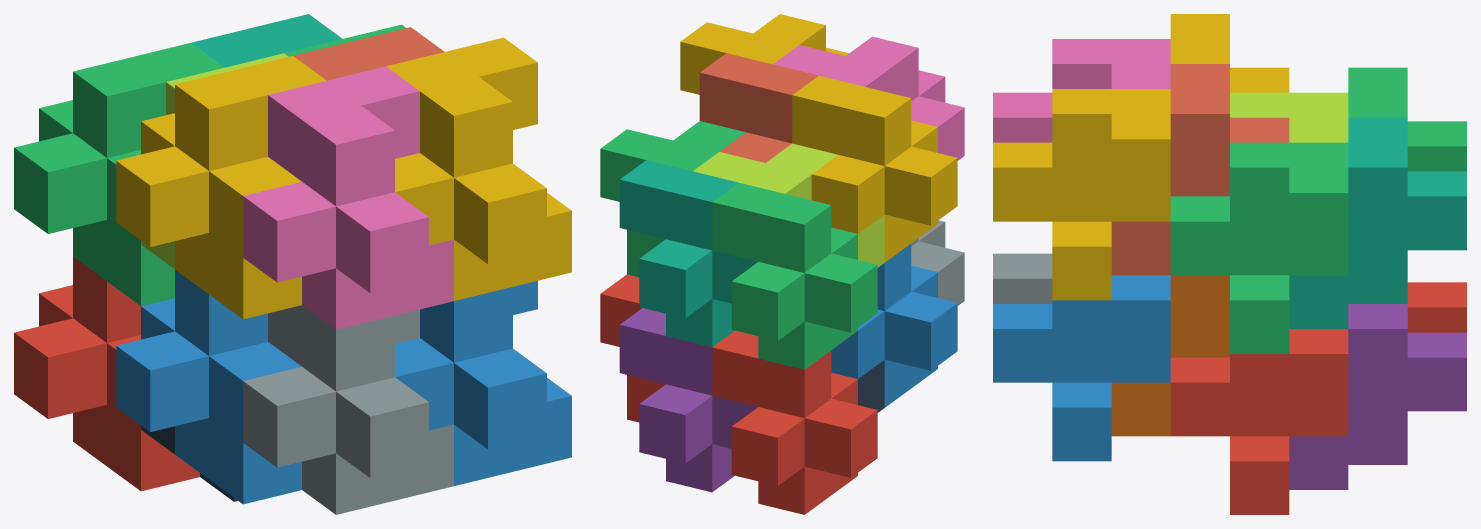
Rendered from tiling.obj.
The picture shows the model from 3 angles, left to right: view 1: azimuth 30°, elevation 25°; view 2: azimuth 150°, elevation 25°; view 3: azimuth 270°, elevation 25°; orthographic projection. The views are drawn at different scales.
Parts seen in each view (by area): view 1: copy_2_domain_4, copy_2_domain_8, copy_2_domain_2, copy_1_domain_4, copy_1_domain_3, copy_1_domain_2, copy_2_domain_6, copy_1_domain_1, copy_1_domain_8, copy_1_domain_7, copy_2_domain_3, copy_2_domain_7 (+1 smaller); view 2: copy_1_domain_3, copy_1_domain_1, copy_1_domain_4, copy_1_domain_7, copy_1_domain_5, copy_1_domain_2, copy_1_domain_8, copy_2_domain_4, copy_2_domain_7, copy_2_domain_8, copy_2_domain_3, copy_2_domain_5 (+2 smaller); view 3: copy_2_domain_7, copy_2_domain_8, copy_2_domain_5, copy_2_domain_6, copy_1_domain_7, copy_1_domain_5, copy_1_domain_8, copy_2_domain_4, copy_1_domain_6, copy_1_domain_3, copy_2_domain_3, copy_1_domain_4 (+2 smaller).
Part boxes in pixels (left/top/right/bottom): copy_2_domain_4: left=243, top=66, right=453, bottom=329; copy_2_domain_8: left=386, top=37, right=571, bottom=300; copy_2_domain_2: left=243, top=305, right=453, bottom=514; copy_1_domain_4: left=116, top=56, right=326, bottom=319; copy_1_domain_3: left=14, top=43, right=224, bottom=306; copy_1_domain_2: left=116, top=270, right=301, bottom=504; copy_2_domain_6: left=395, top=280, right=571, bottom=485; copy_1_domain_1: left=14, top=257, right=199, bottom=491; copy_1_domain_8: left=293, top=27, right=444, bottom=80; copy_1_domain_7: left=191, top=14, right=342, bottom=67; copy_2_domain_3: left=141, top=53, right=288, bottom=268; copy_2_domain_7: left=284, top=24, right=405, bottom=56; copy_1_domain_3: left=712, top=182, right=877, bottom=369; copy_1_domain_1: left=712, top=330, right=877, bottom=514; copy_1_domain_4: left=792, top=75, right=957, bottom=262; copy_1_domain_7: left=619, top=160, right=757, bottom=346; copy_1_domain_5: left=619, top=308, right=757, bottom=492; copy_1_domain_2: left=831, top=244, right=957, bottom=407; copy_1_domain_8: left=699, top=53, right=818, bottom=162; copy_2_domain_4: left=773, top=36, right=964, bottom=160; copy_2_domain_7: left=600, top=121, right=745, bottom=277; copy_2_domain_8: left=680, top=14, right=848, bottom=94; copy_2_domain_3: left=693, top=143, right=884, bottom=267; copy_2_domain_5: left=600, top=274, right=665, bottom=422; copy_2_domain_7: left=1170, top=142, right=1348, bottom=353; copy_2_domain_8: left=993, top=89, right=1170, bottom=300; copy_2_domain_5: left=1170, top=329, right=1348, bottom=514; copy_2_domain_6: left=993, top=275, right=1170, bottom=461; copy_1_domain_7: left=1289, top=117, right=1466, bottom=328; copy_1_domain_5: left=1289, top=304, right=1466, bottom=489; copy_1_domain_8: left=1111, top=64, right=1289, bottom=275; copy_2_domain_4: left=993, top=39, right=1170, bottom=142; copy_1_domain_6: left=1111, top=275, right=1229, bottom=436; copy_1_domain_3: left=1348, top=67, right=1466, bottom=171; copy_2_domain_3: left=1230, top=92, right=1348, bottom=142; copy_1_domain_4: left=1170, top=14, right=1289, bottom=92.
Bounding box in the file's own units: 6 × 7 × 8.
